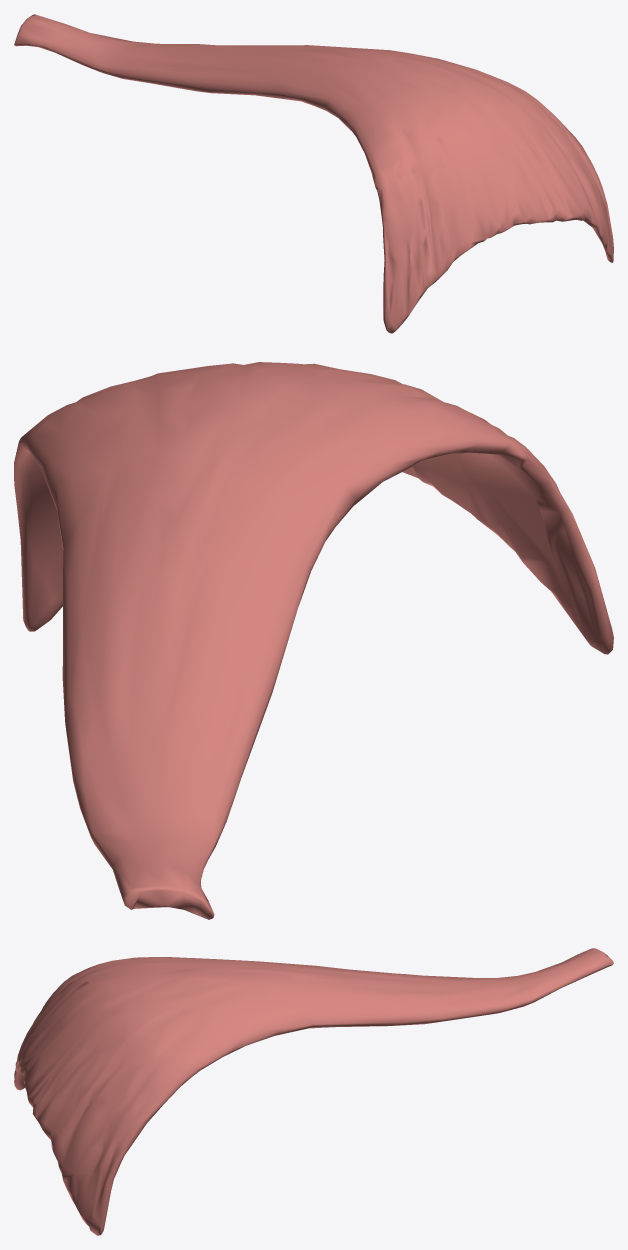
The picture shows the model from 3 angles, top to bottom: view 1: azimuth 30°, elevation 25°; view 2: azimuth 150°, elevation 25°; view 3: azimuth 270°, elevation 25°; orthographic projection. The views are drawn at different scales.
Parts seen in each view (by area): view 1: ZA_bcb50f11cf4b551e; view 2: ZA_bcb50f11cf4b551e; view 3: ZA_bcb50f11cf4b551e.
Boxes of the visible parts, bbox=[...] form: ZA_bcb50f11cf4b551e: bbox=[14, 14, 613, 333]; ZA_bcb50f11cf4b551e: bbox=[14, 362, 613, 919]; ZA_bcb50f11cf4b551e: bbox=[14, 948, 613, 1235].
Size of the model in its own units: 0.0301 by 0.0158 by 0.046.
